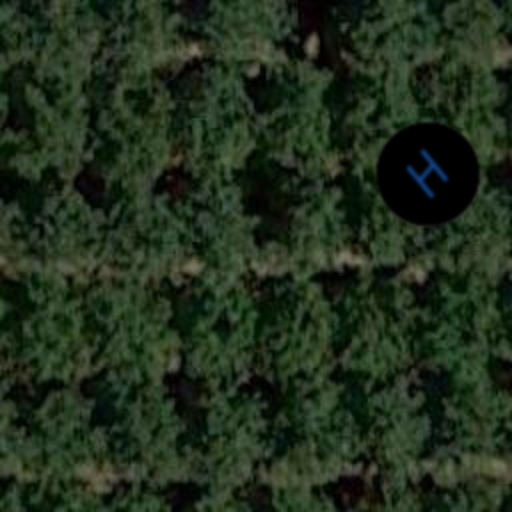circle: (352, 98, 504, 250)
